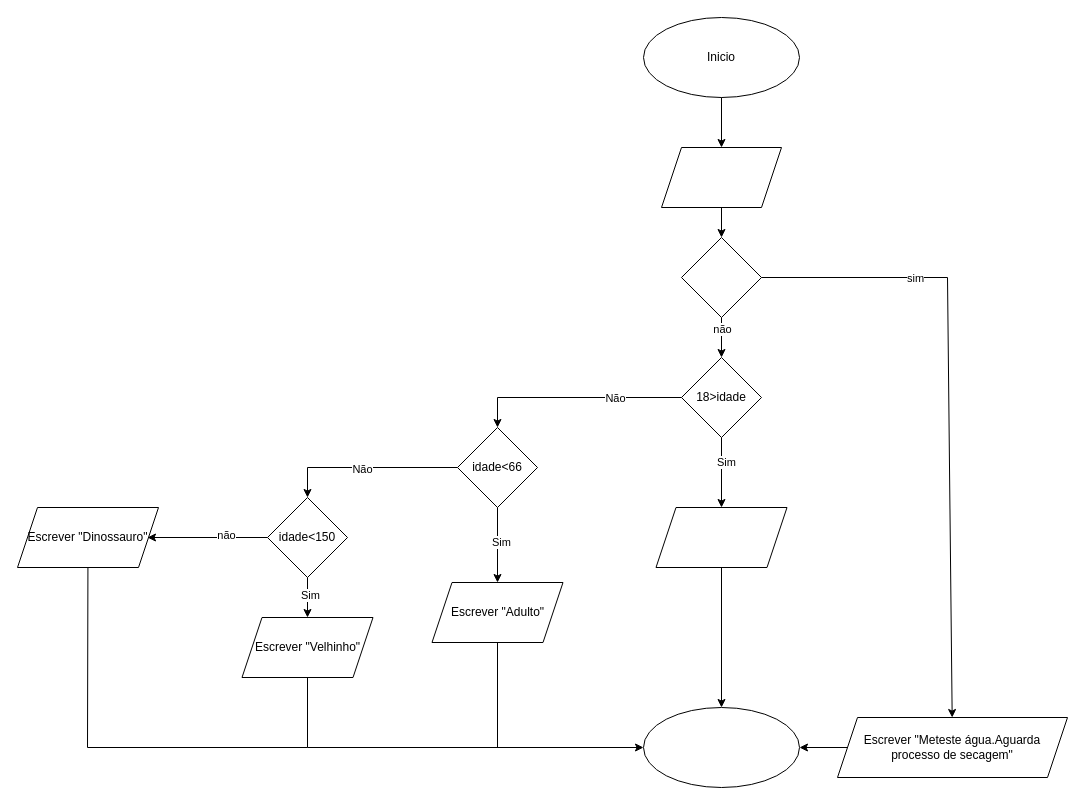
The diagram is 1085 pixels wide and 805 high, and some of its shapes have lost their labels. Each missing label, with the centre of its shape:
Escrever "Puto": point 721,537
Fim: point 721,747
idade<0: point 721,277
Ler Idade: point 721,177
